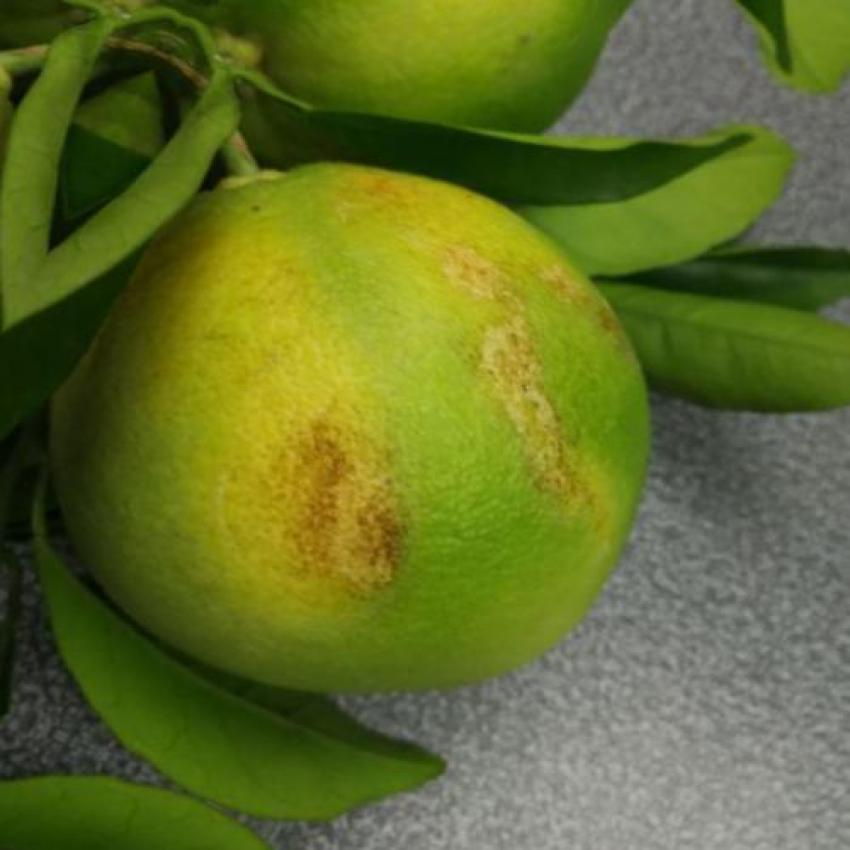Mal estado: (38, 135, 676, 695)
